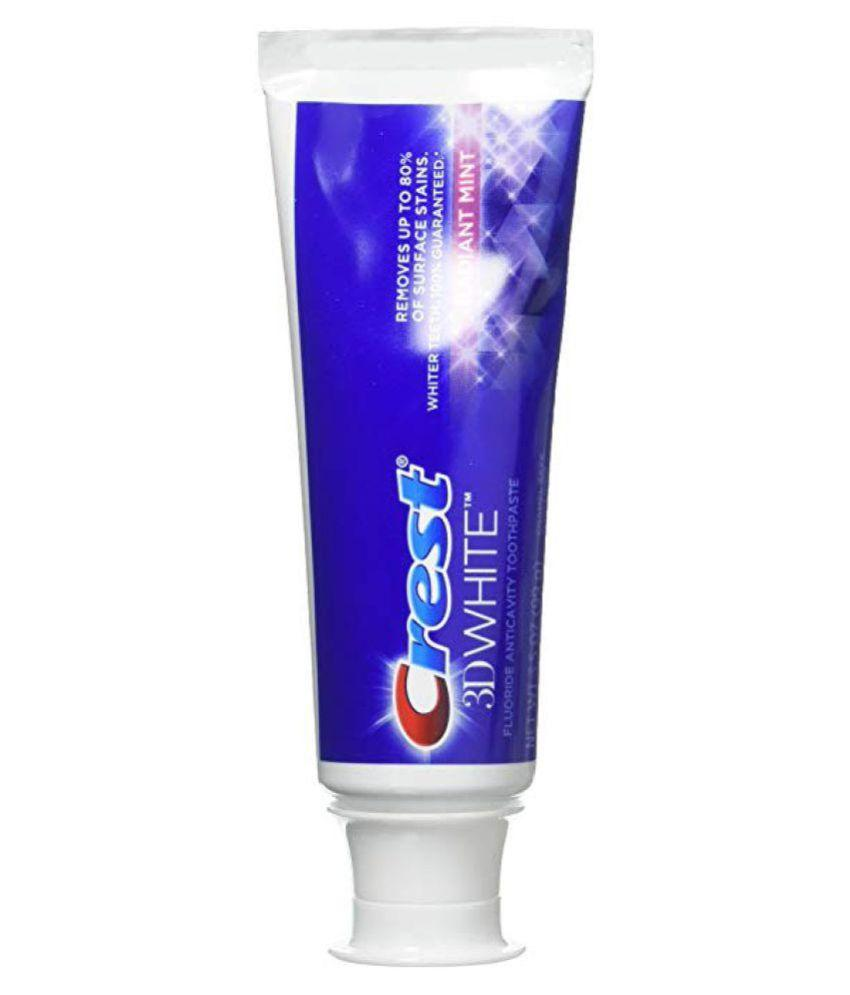toothpaste: (237, 23, 600, 978)
